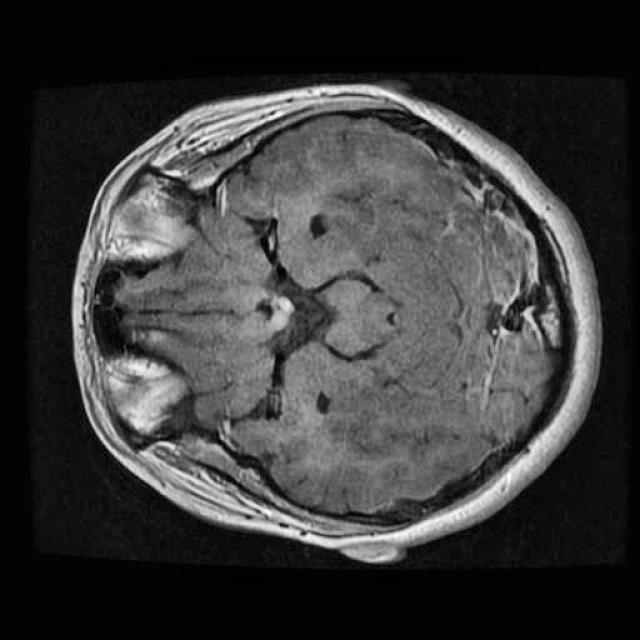Tumor: (253, 281, 305, 349)
